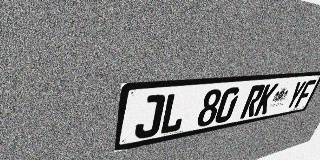0: (213, 87, 241, 124)
8: (195, 88, 224, 128)
F: (294, 80, 317, 108)
J: (133, 94, 166, 140)
K: (253, 83, 279, 116)
L: (158, 92, 190, 135)
R: (239, 84, 266, 119)
Y: (284, 81, 307, 110)
